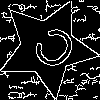C: (22, 22, 80, 81)
